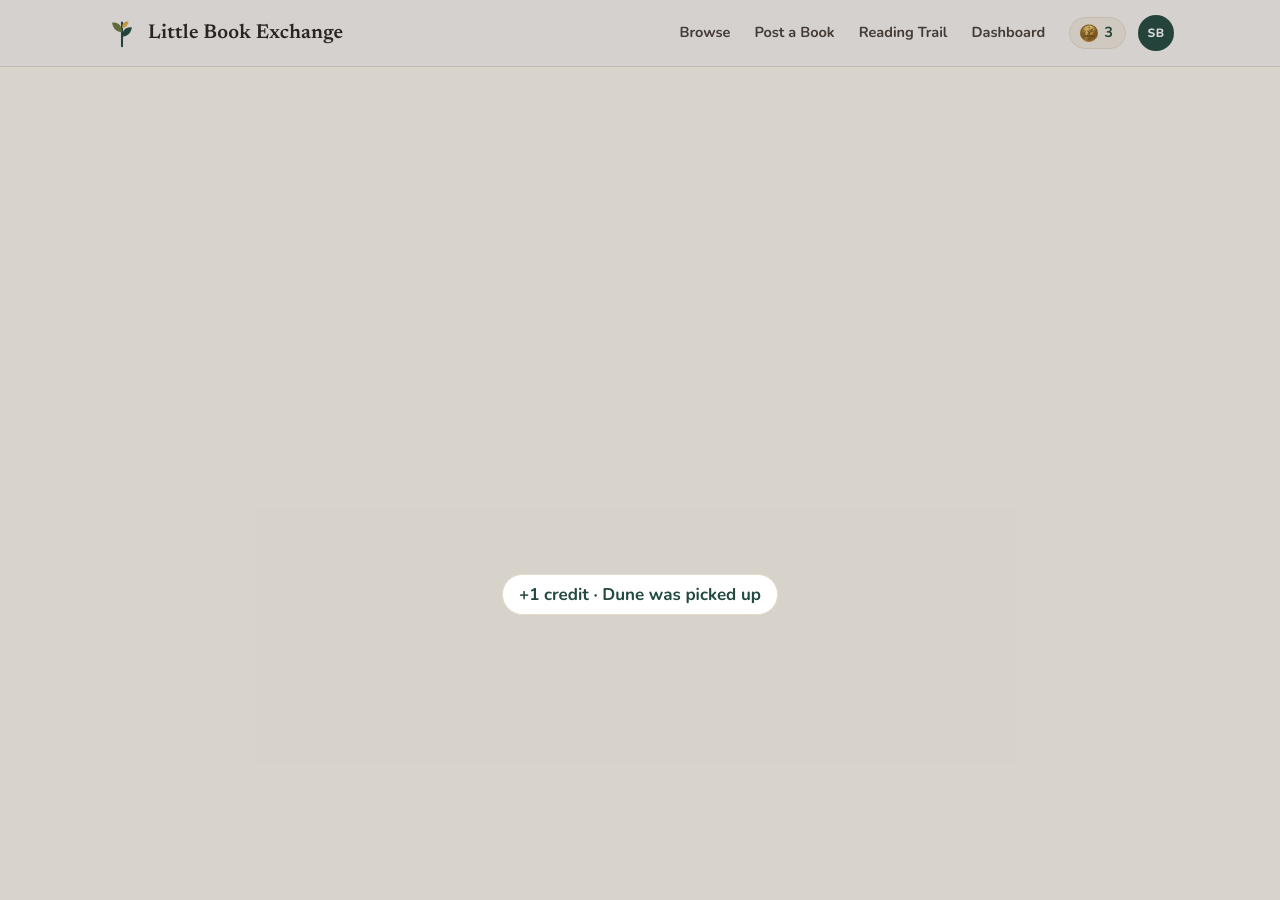
Test: HomeNav credit coin show › after the show is skipped the pill shows the real balance and the overlay is gone, and the same rows do not restart it
This screenshot has width=1280, height=900.
Click the element with class "ccs": click(640, 450) [0,0,1279,899]
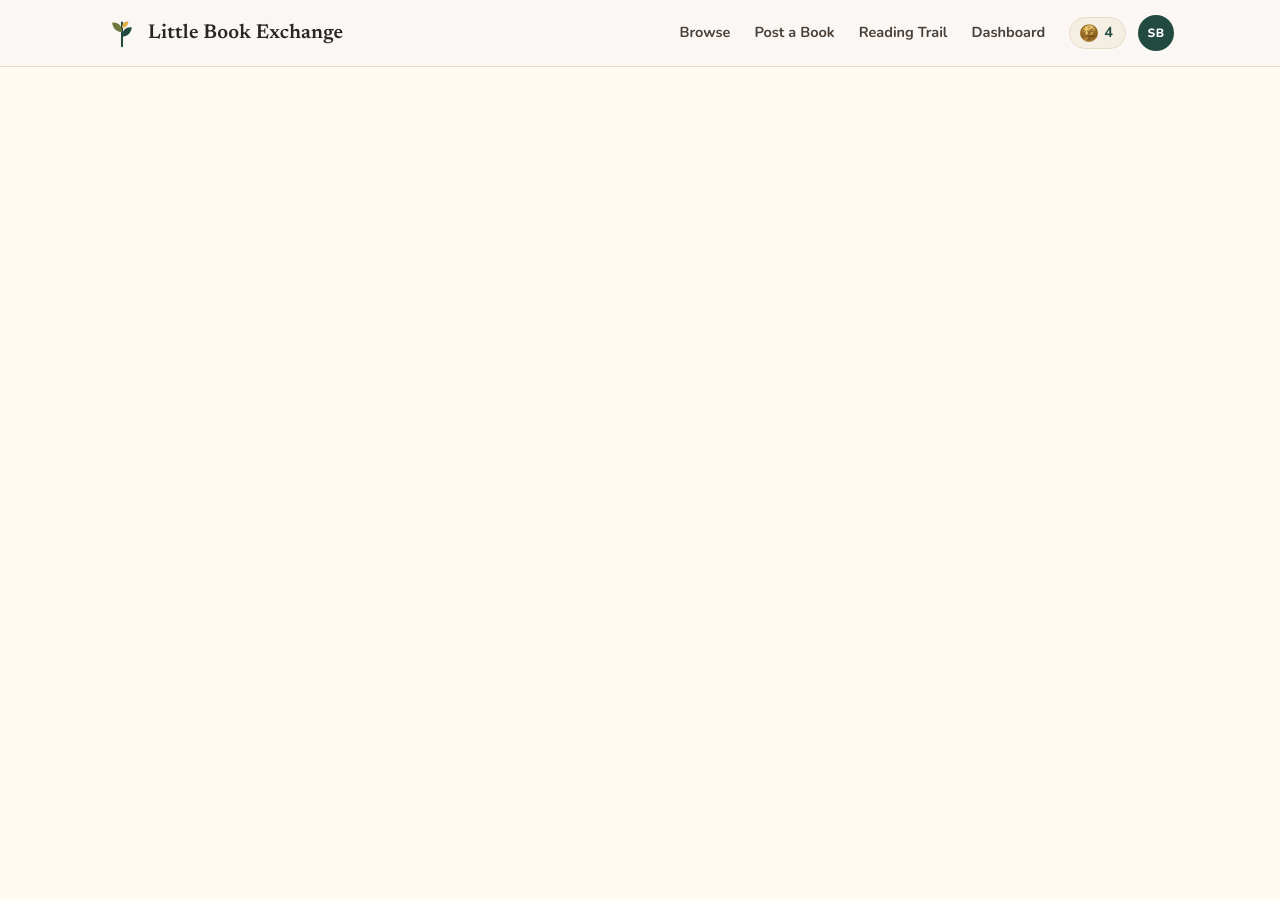
Result: the link named "4 credits" is shown at [1069,17,1126,49]
Result: the element with class "ccs" is gone
